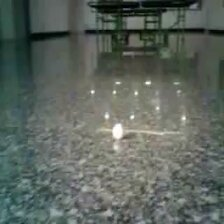w: (110, 122, 125, 140)
